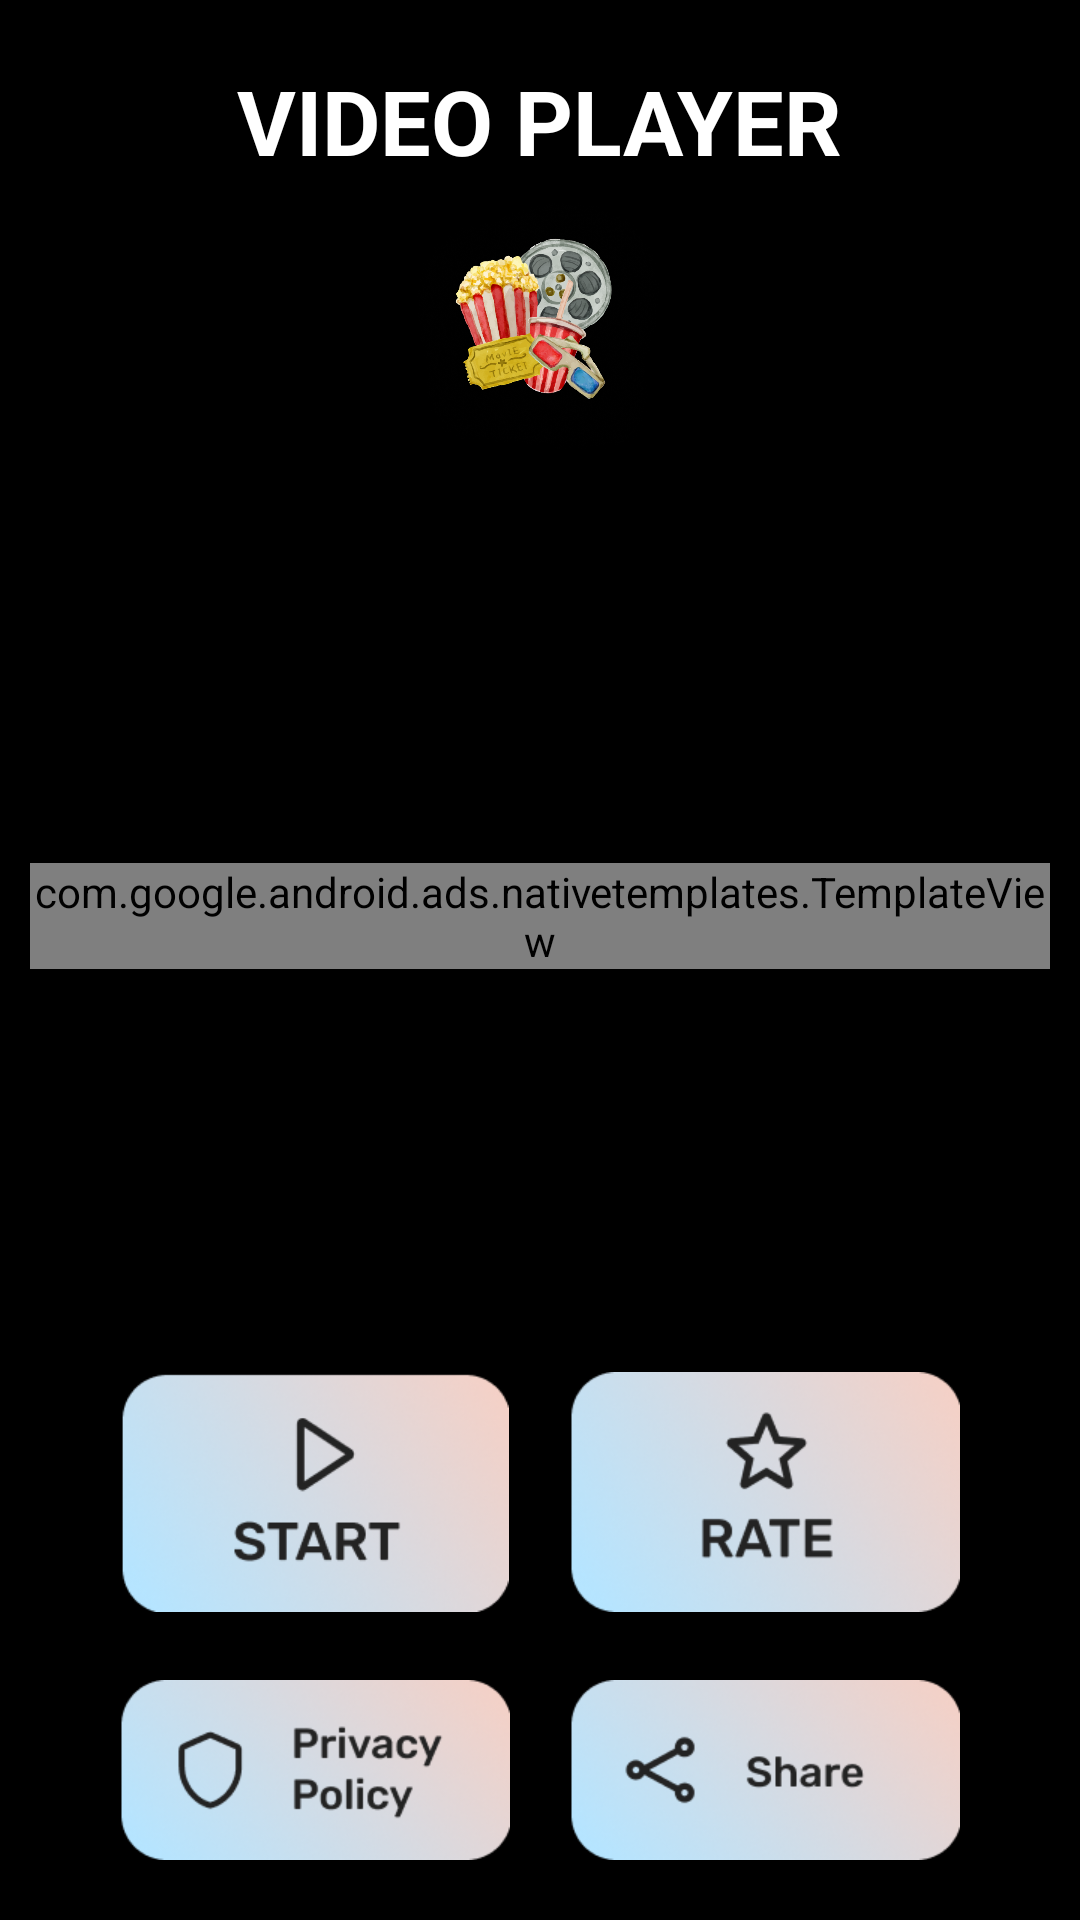

Named icons in this screenshot (1080×1920) and their centers, point (x, y):
popcorn: point (534, 319)
